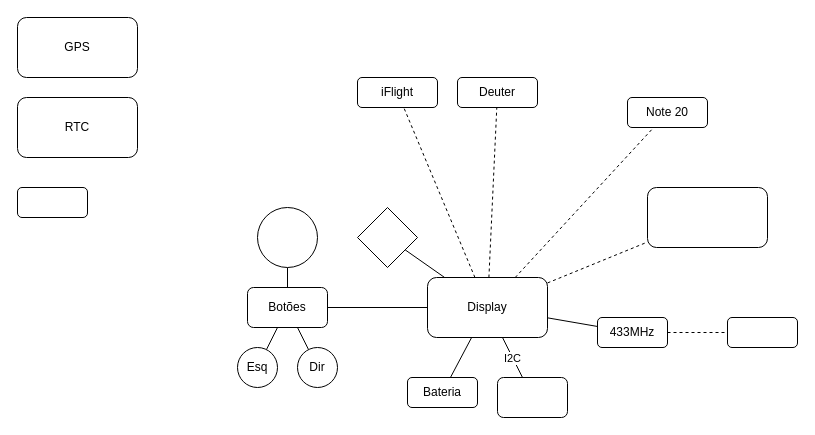
Some shapes in this 815 by 435 pixel diagram are drawn without their labels. The centre of each missing label's shape, as x and y in pixels:
"Buzina" belongs at [287,237].
"Buzzer" belongs at [387,237].
"Gyro MPU6050" belongs at [532,397].
"Piscas" belongs at [762,332].
"S16" belongs at [707,217].
"Vibracall" belongs at [52,202].
